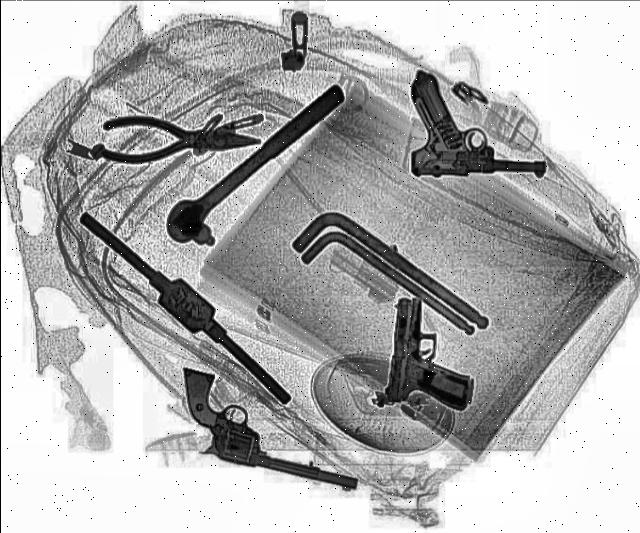Gun: (152, 366, 386, 490), (408, 68, 552, 176), (387, 294, 483, 412)
Pliers: (100, 113, 260, 162)
